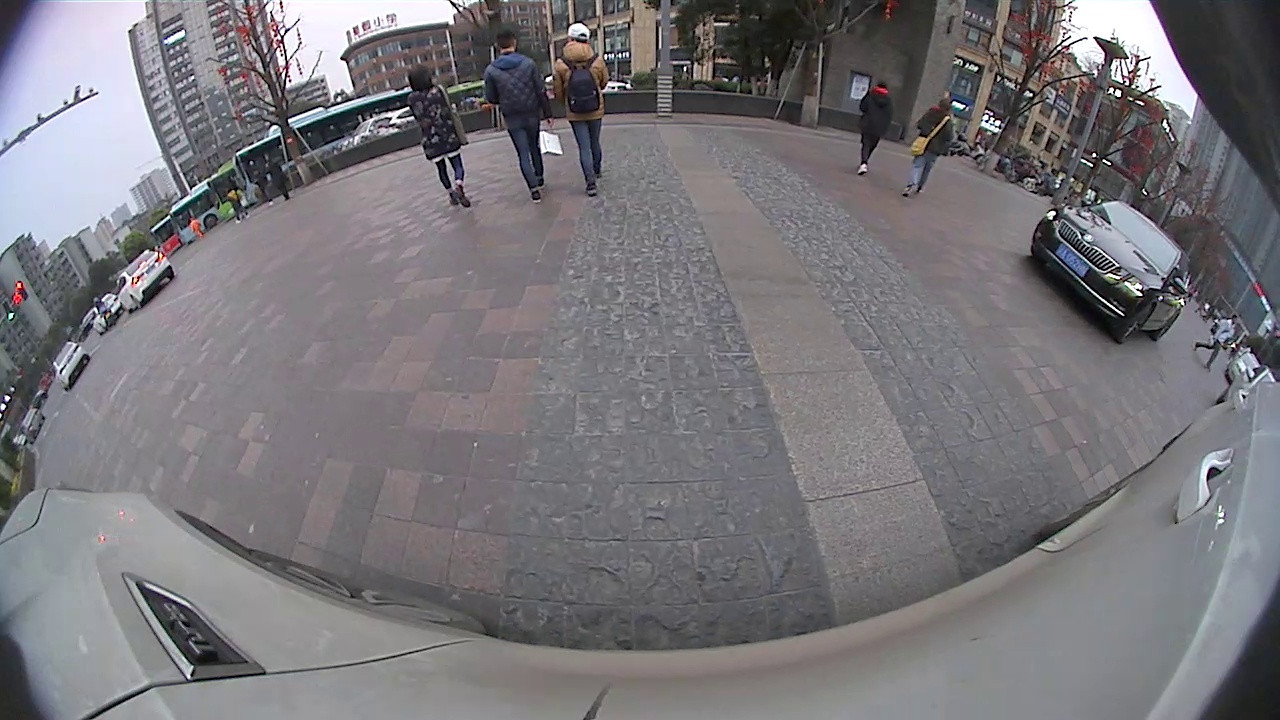bus: (232, 86, 415, 210)
car: (1029, 198, 1193, 346), (112, 247, 175, 314), (51, 339, 92, 392)
front: (1117, 297, 1158, 347)
person: (554, 21, 607, 202), (487, 30, 537, 205), (406, 64, 448, 208), (920, 96, 957, 199), (861, 78, 894, 174)
